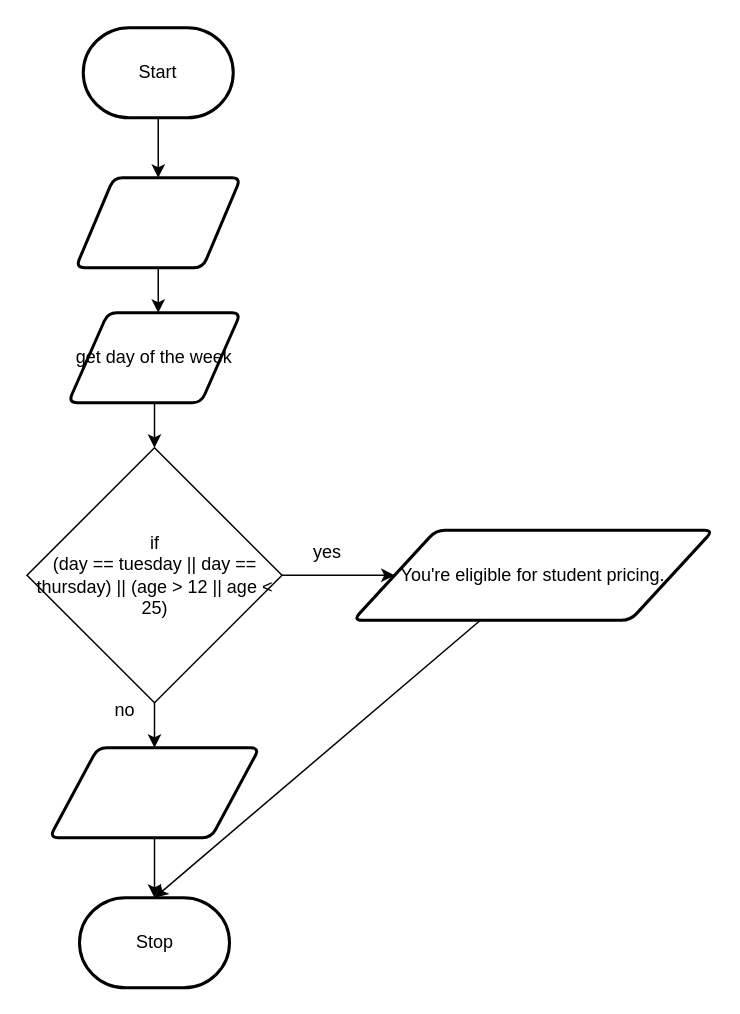
This 740x1014 diagram has some shape labels left out. The centre of each missing label's shape, as x and y in pixels:
Get age: pixel 158 222
You're not eligible for student pricing.: pixel 153 792
